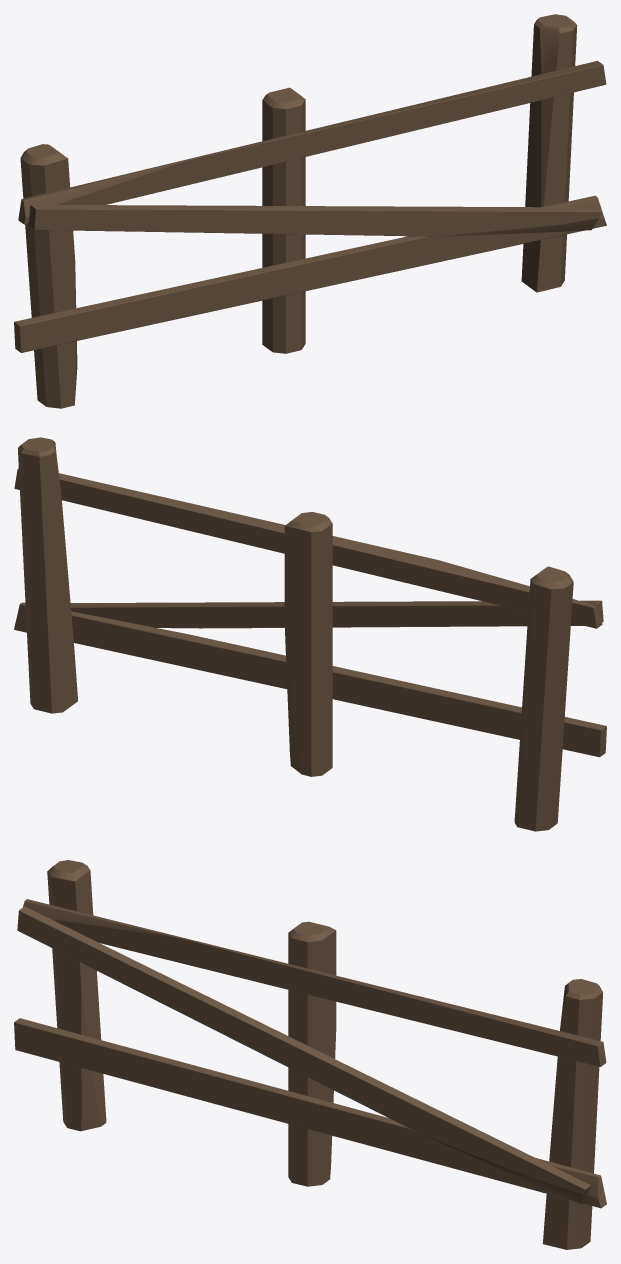
The model's file is Fence-M01A.fbx.
3 renders of one model, top to bottom at view 1: azimuth 30°, elevation 25°; view 2: azimuth 150°, elevation 25°; view 3: azimuth 330°, elevation 25°, orthographic.
Visible parts, largest first — view 1: Fence-M01A; view 2: Fence-M01A; view 3: Fence-M01A.
Boxes of the visible parts, x1,y1,x2,y2 form: Fence-M01A: (14,14,606,408); Fence-M01A: (14,437,606,831); Fence-M01A: (14,860,606,1249).
Bounding box in the file's own units: 293 × 123 × 27.12.
